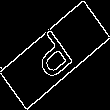P_SE: (28, 24, 82, 86)
